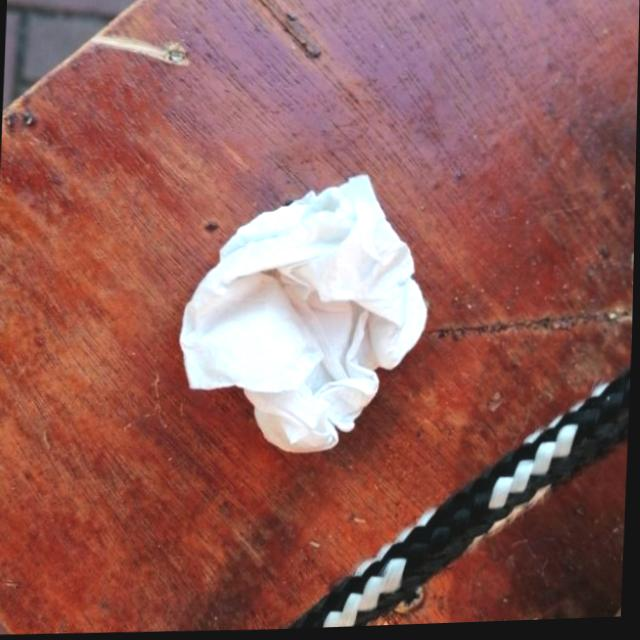Paper: (173, 168, 434, 463)
